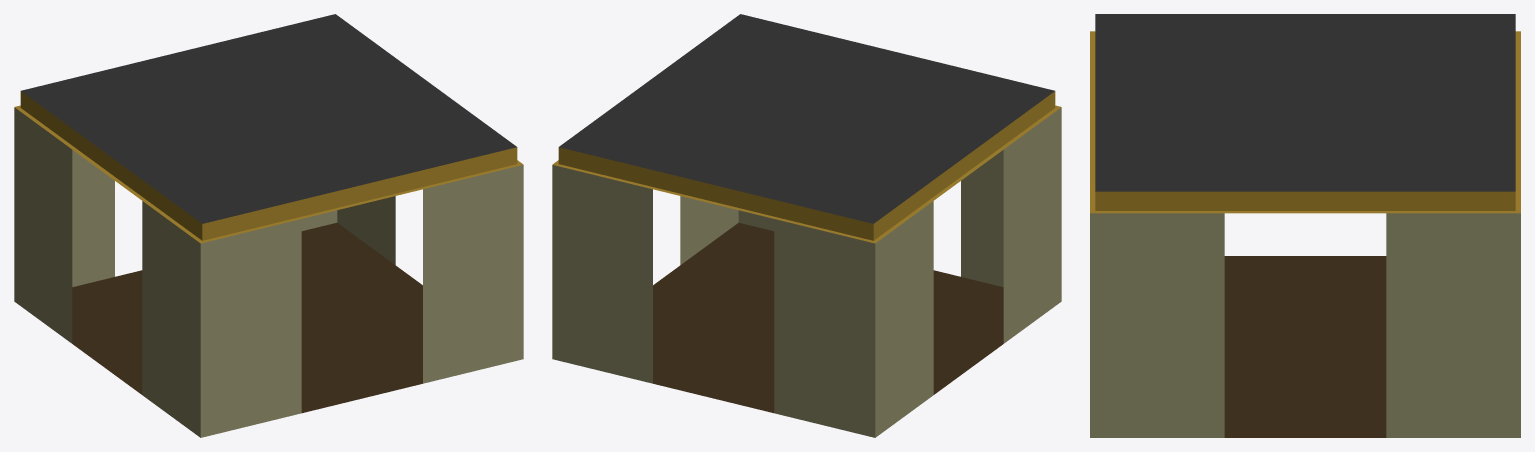
The model's file is 3x3Room.fbx.
3 views of the same model, side by side, from view 1: azimuth 30°, elevation 25°; view 2: azimuth 150°, elevation 25°; view 3: azimuth 270°, elevation 25° (orthographic). The views are drawn at different scales.
Parts seen in each view (by area): view 1: 3x3Room; view 2: 3x3Room; view 3: 3x3Room.
Part boxes in pixels (x1=…): 3x3Room: x1=14, y1=14, x2=523, y2=437; 3x3Room: x1=552, y1=14, x2=1061, y2=437; 3x3Room: x1=1090, y1=14, x2=1520, y2=437.
Size of the model in its own units: 800 by 500 by 800.
